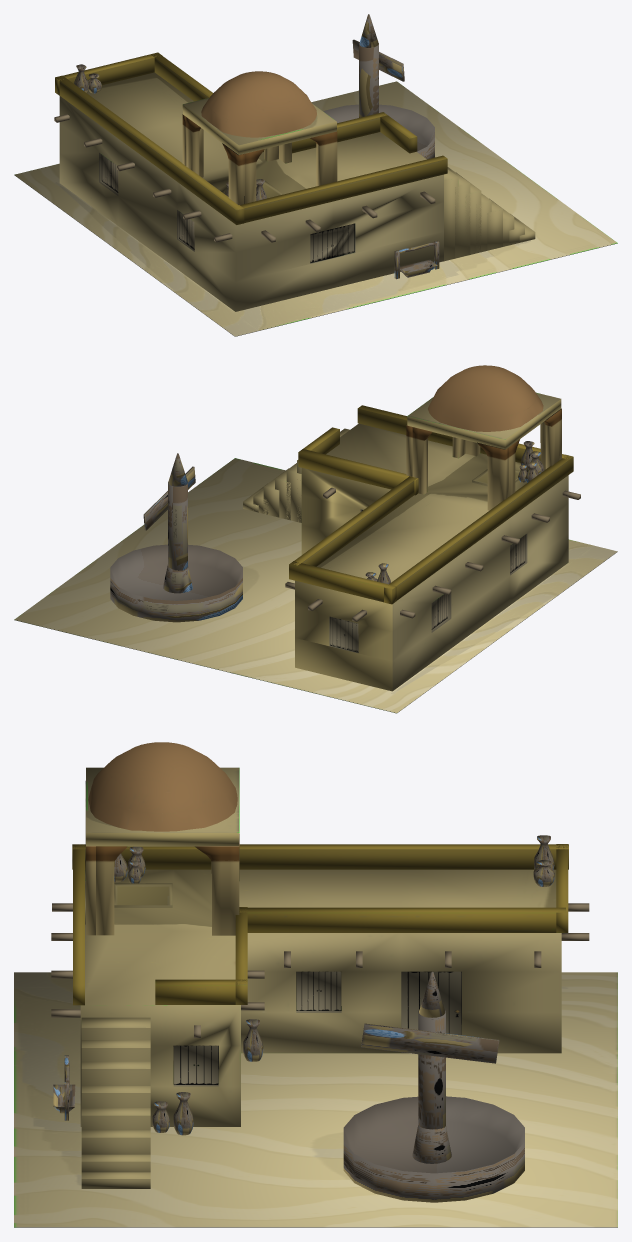
File: oasis.gltf
3 renders of one model, top to bottom at view 1: azimuth 30°, elevation 25°; view 2: azimuth 150°, elevation 25°; view 3: azimuth 270°, elevation 25°, orthographic. The views are drawn at different scales.
Bounding box in the file's own units: 1570 × 800 × 1570.
Materials: 2 (2 with a texture image).
